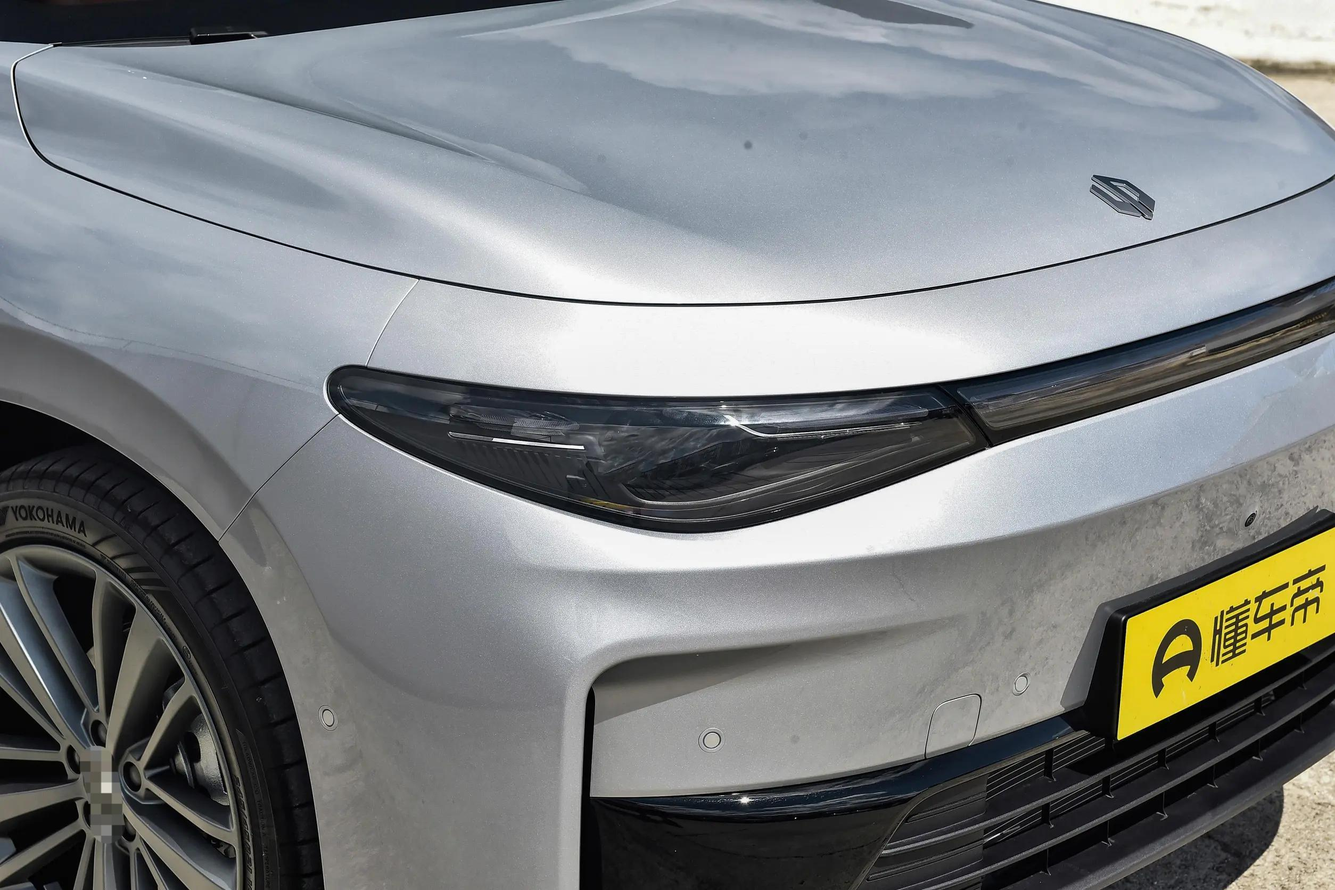LEAPMOTOR: (1089, 172, 1158, 224)
